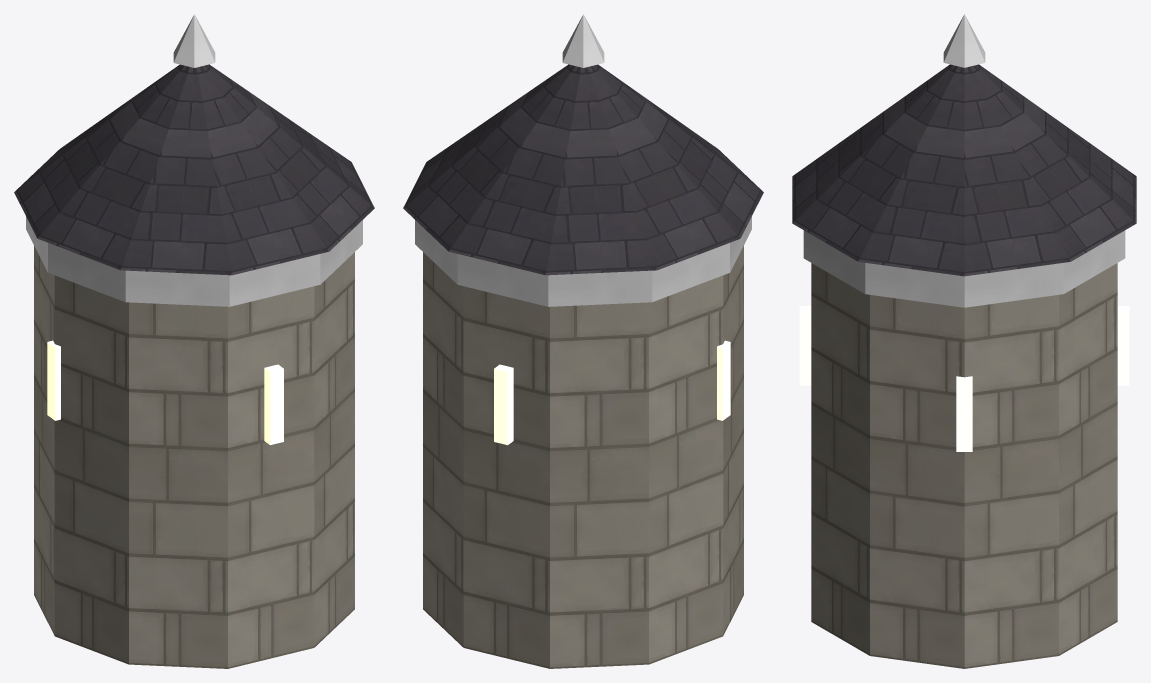
File: tower.wallet.t4.glb
3 views of the same model, side by side, from view 1: azimuth 30°, elevation 25°; view 2: azimuth 150°, elevation 25°; view 3: azimuth 270°, elevation 25° (orthographic).
Parts seen in each view (by area): view 1: castle.tower.wallet.t4; view 2: castle.tower.wallet.t4; view 3: castle.tower.wallet.t4.
Boxes of the visible parts, box(x1,y1,x2,y2) form: castle.tower.wallet.t4: box(14, 14, 374, 668); castle.tower.wallet.t4: box(403, 14, 763, 668); castle.tower.wallet.t4: box(792, 14, 1136, 668).
Bounding box in the file's own units: 1.8 × 3.22 × 1.71.
Materials: 4 (3 with a texture image).
